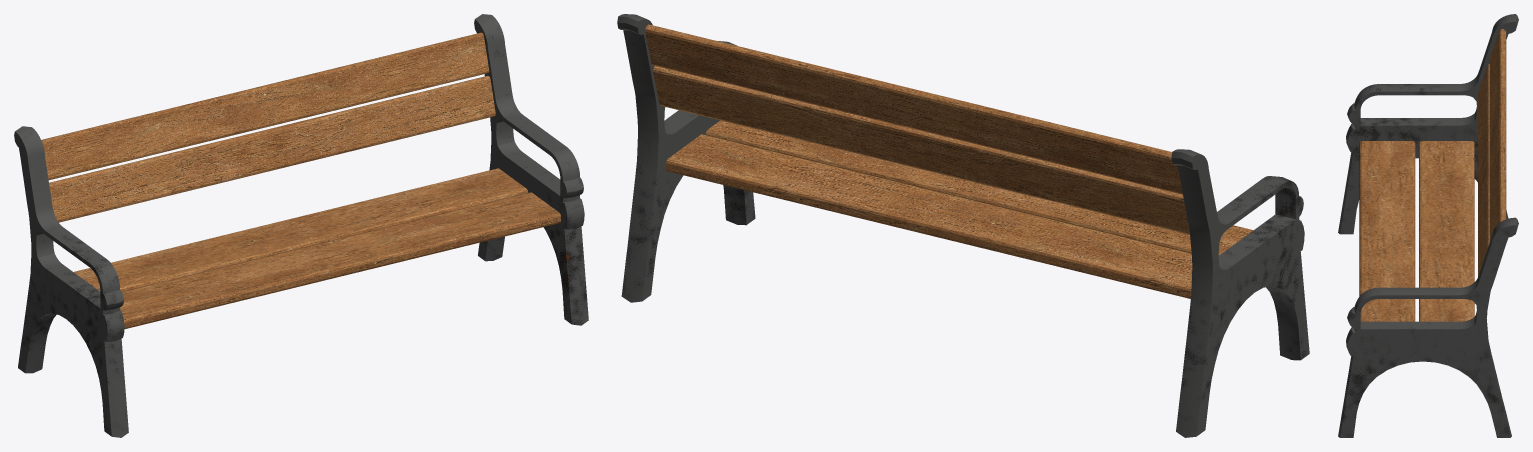
The model's file is Banco.fbx.
3 renders of one model, left to right at view 1: azimuth 30°, elevation 25°; view 2: azimuth 150°, elevation 25°; view 3: azimuth 270°, elevation 25°, orthographic. The views are drawn at different scales.
Visible parts, largest first — view 1: BancoPatas; view 2: BancoPatas; view 3: BancoPatas.
Boxes of the visible parts, x1,y1,x2,y2 form: BancoPatas: (14,14,588,437); BancoPatas: (617,14,1309,437); BancoPatas: (1338,14,1518,437).
Size of the model in its own units: 197 by 94.58 by 71.4.
Materials: 1 (1 with a texture image).
